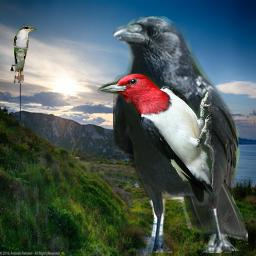Crow: (113, 16, 248, 253)
Cuckoo: (13, 25, 36, 83)
Woodpecker: (96, 73, 219, 203)
